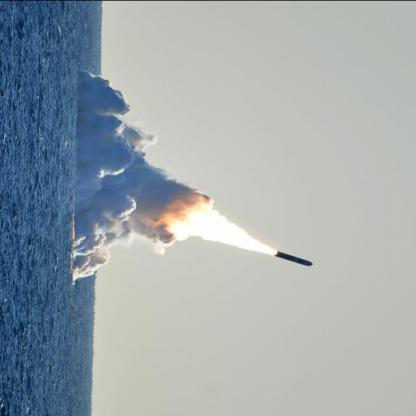MIL_TBM: (275, 248, 315, 270)
